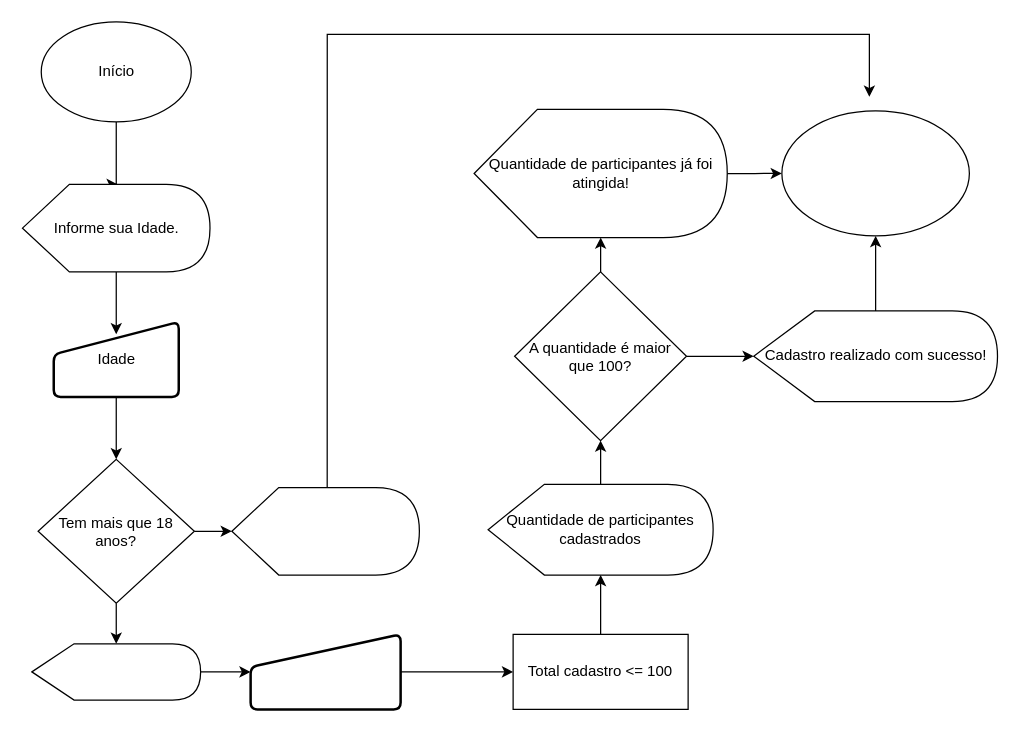
Some shapes in this 1019 by 733 pixel diagram are drawn without their labels. Here are the shapes that lost their labels. From the top down, the centre of each, then its label:
At point 875,173: "Fim!".
At point 325,530: "Não permitido para menores de 18 anos".
At point 116,671: "Nome: CPF:".
At point 325,671: "Nome CPF".
